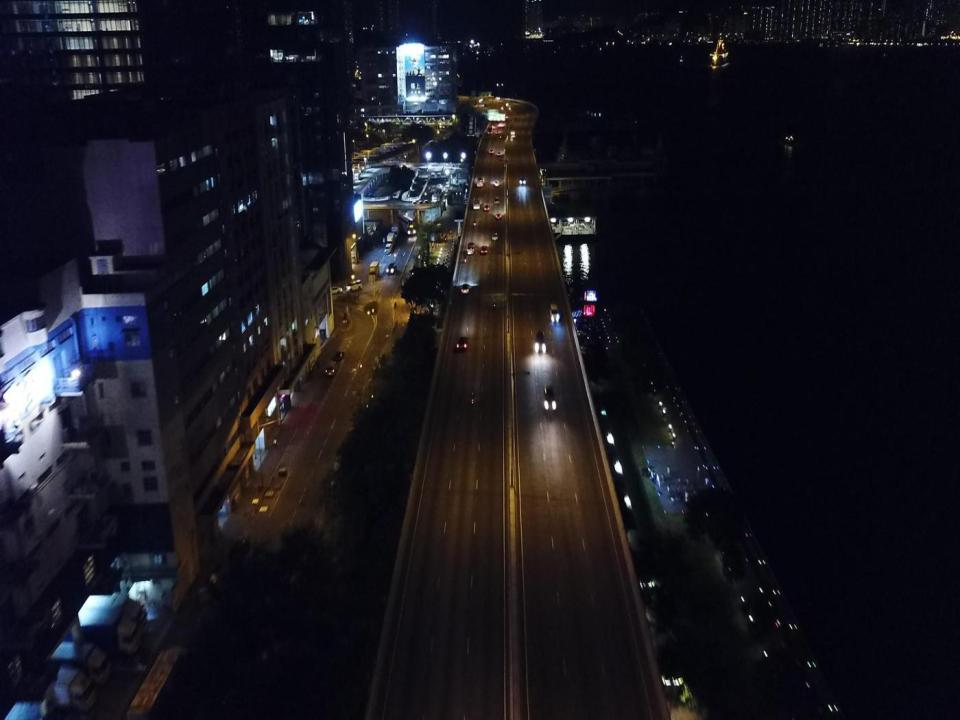bus: (397, 214, 416, 235), (472, 196, 480, 210), (476, 176, 484, 188), (467, 242, 474, 254)
car: (544, 385, 556, 410), (536, 330, 544, 352), (456, 336, 468, 350), (325, 287, 342, 294), (334, 350, 343, 361), (461, 284, 470, 294), (480, 246, 488, 254), (431, 197, 440, 203), (495, 212, 502, 219), (492, 232, 498, 240), (484, 204, 490, 211), (520, 177, 525, 185), (489, 149, 493, 153), (505, 101, 508, 106), (484, 103, 488, 106), (498, 123, 502, 126), (511, 131, 514, 135), (497, 152, 501, 155), (496, 97, 500, 99), (496, 131, 498, 133)
truck: (125, 646, 189, 718), (11, 664, 96, 711), (61, 608, 141, 654), (71, 594, 148, 636), (46, 642, 110, 686), (368, 260, 379, 280), (387, 232, 395, 247), (392, 223, 399, 238), (488, 126, 492, 134)
van: (228, 539, 250, 565), (346, 279, 362, 292), (325, 360, 337, 376), (549, 303, 559, 321), (388, 262, 396, 274), (384, 243, 392, 254), (418, 200, 425, 208), (392, 192, 400, 199), (354, 172, 360, 180), (424, 200, 430, 207), (430, 173, 436, 179), (436, 172, 442, 178), (494, 197, 499, 204), (412, 200, 417, 207), (494, 180, 499, 186), (446, 181, 449, 188)
